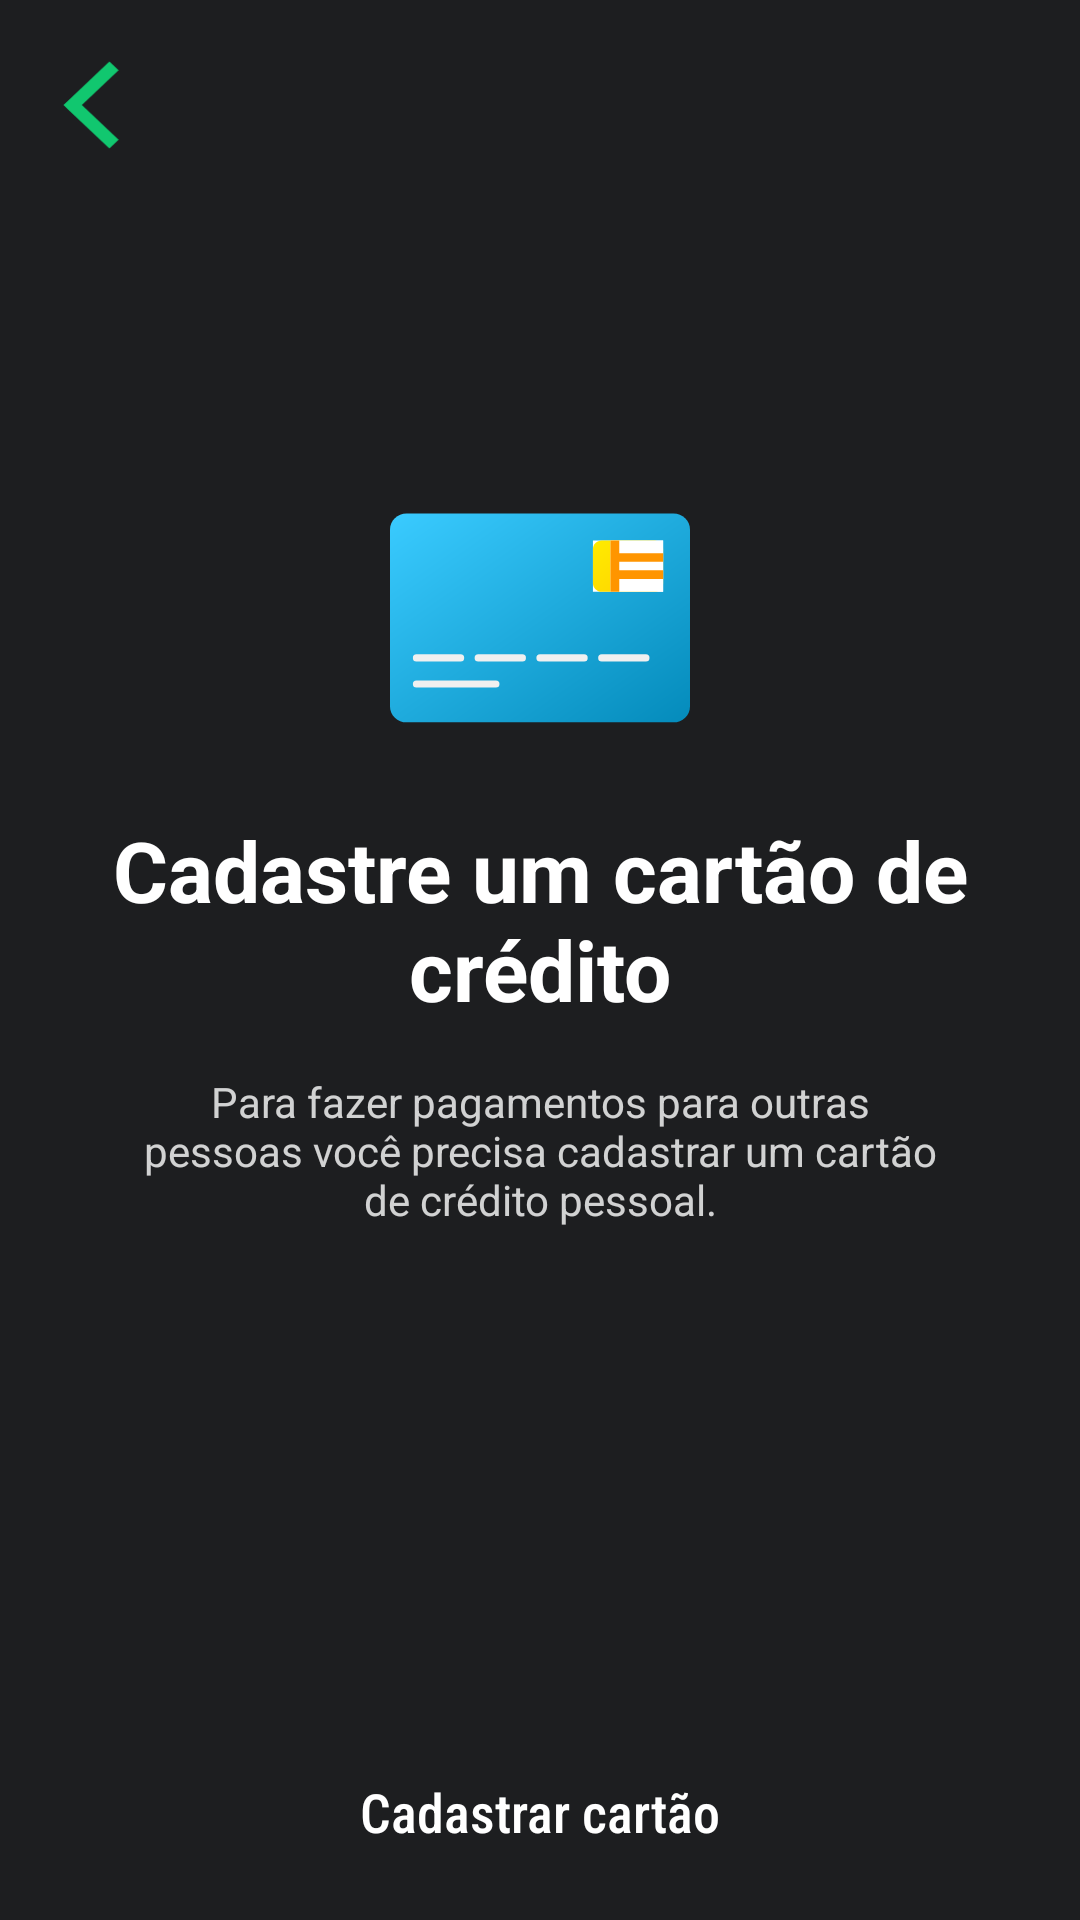

Icons on this 1080*1920 Android screen, each with its box as [x1, y1, x2, y2]:
back: [63, 61, 119, 149]
card: [390, 513, 690, 723]
